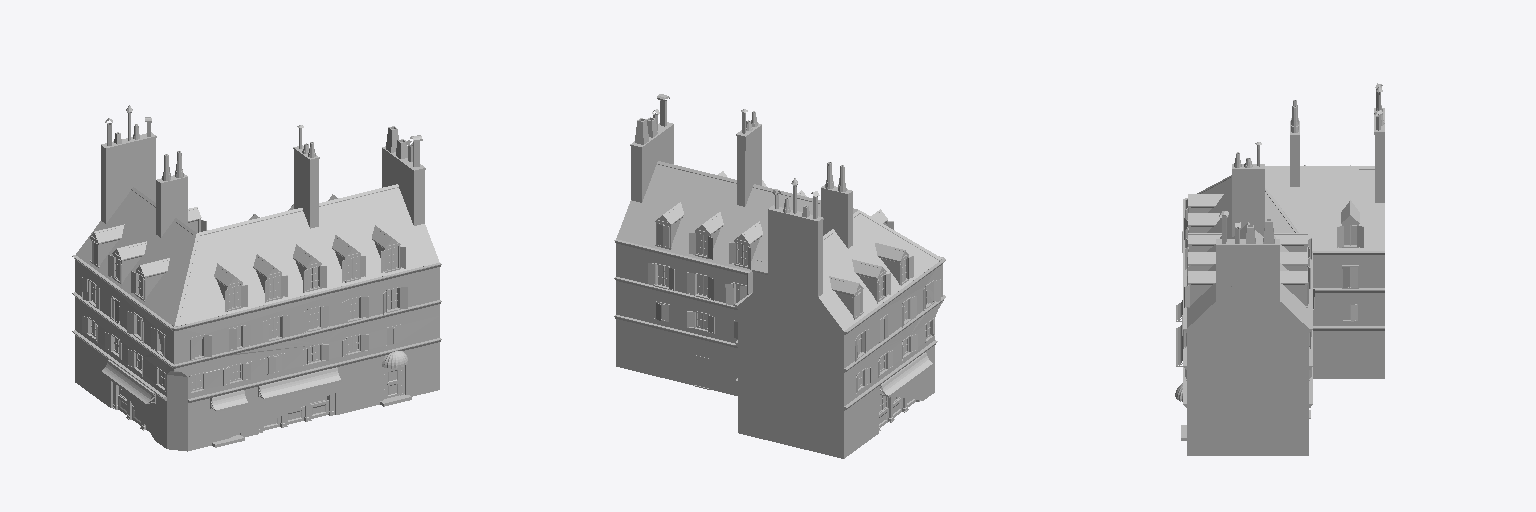
Rendered from victorian house2.obj.
3 views of the same model, side by side, from view 1: azimuth 30°, elevation 25°; view 2: azimuth 150°, elevation 25°; view 3: azimuth 270°, elevation 25° (orthographic).
Parts seen in each view (by area): view 1: Плоскость.001_Плоскость.037; view 2: Плоскость.001_Плоскость.037; view 3: Плоскость.001_Плоскость.037.
Boxes of the visible parts, box(x1,y1,x2,y2) form: Плоскость.001_Плоскость.037: box(72, 105, 441, 451); Плоскость.001_Плоскость.037: box(614, 94, 945, 458); Плоскость.001_Плоскость.037: box(1175, 83, 1384, 455).
Bounding box in the file's own units: 22.92 × 21.23 × 15.14.